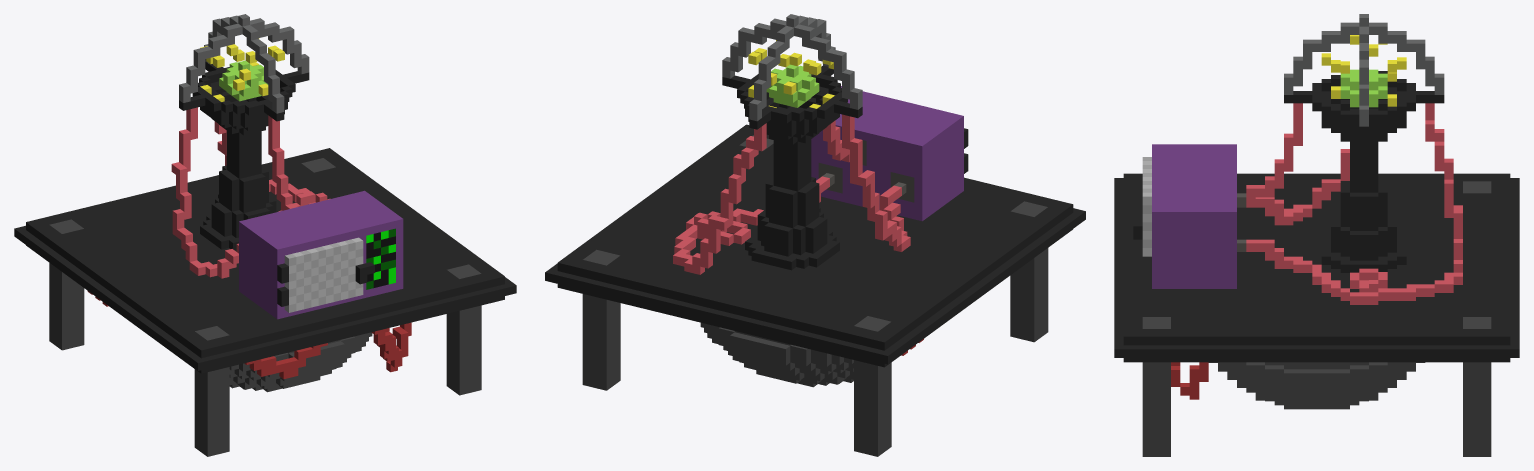
File: Microwave.1.dae
3 renders of one model, left to right at view 1: azimuth 30°, elevation 25°; view 2: azimuth 150°, elevation 25°; view 3: azimuth 270°, elevation 25°, orthographic. The views are drawn at different scales.
Visible parts, largest first — view 1: Microwave1; view 2: Microwave1; view 3: Microwave1.
Boxes of the visible parts, bbox=[...] form: Microwave1: bbox=[14, 14, 516, 456]; Microwave1: bbox=[545, 14, 1085, 456]; Microwave1: bbox=[1114, 14, 1519, 456].
Bounding box in the file's own units: 43 × 43 × 43.
1 material, 1 textured.
